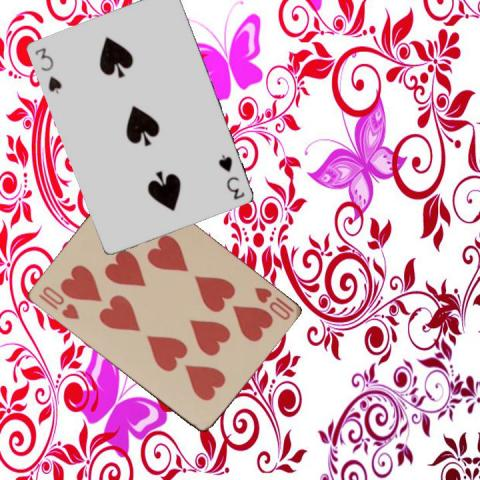10h: (34, 283, 80, 321), (251, 284, 294, 322)
3s: (31, 44, 64, 95), (215, 151, 246, 201)
